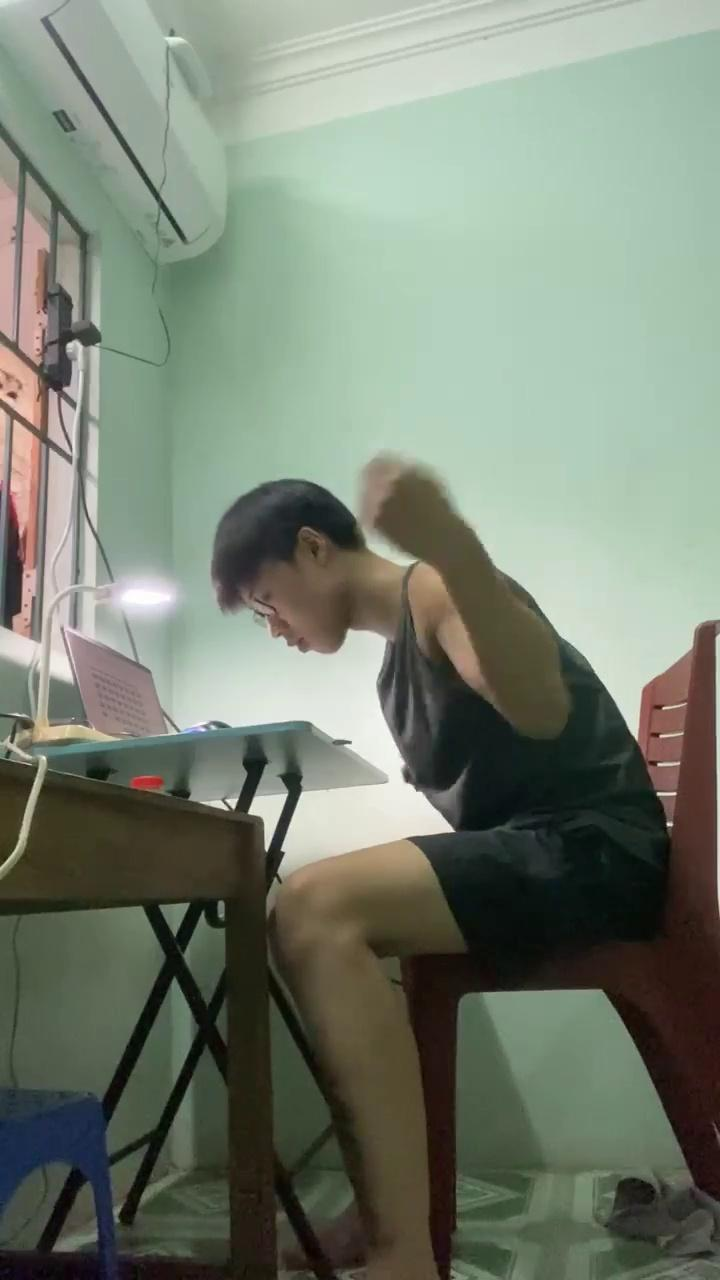BadPosture: (211, 457, 669, 1279)
